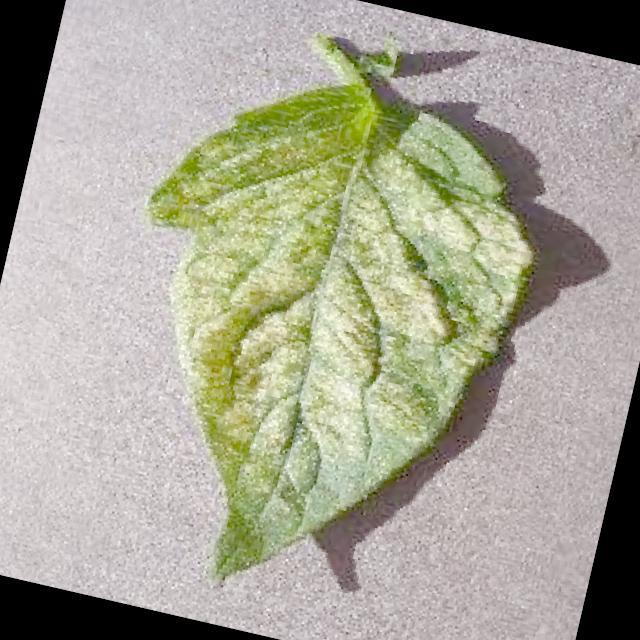Tomato spider mites leaf: (70, 52, 556, 638)
